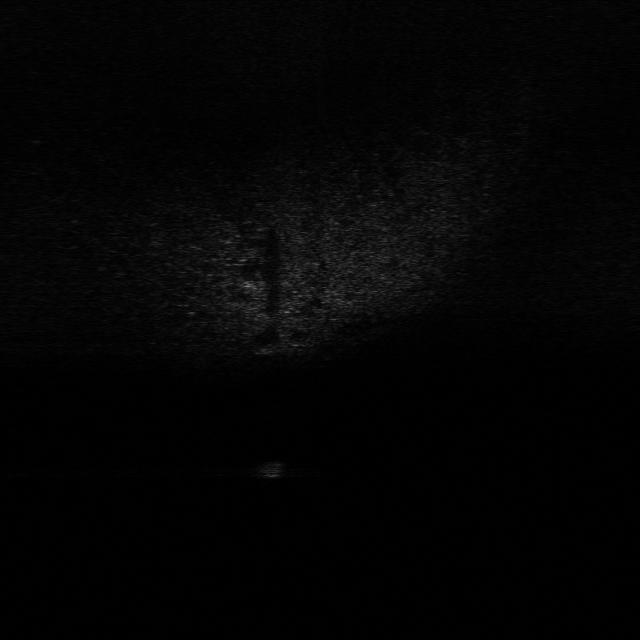cylinder: (252, 459, 286, 482)
